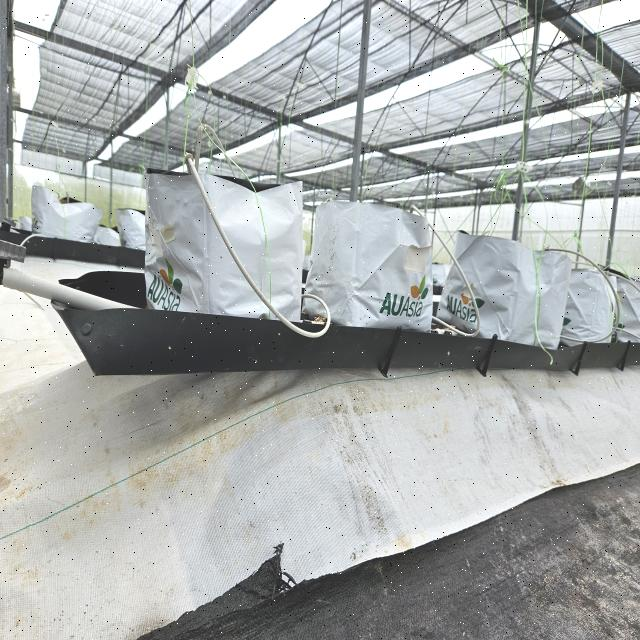Soilbag: (150, 160, 305, 323), (308, 202, 434, 337), (436, 232, 572, 350)
